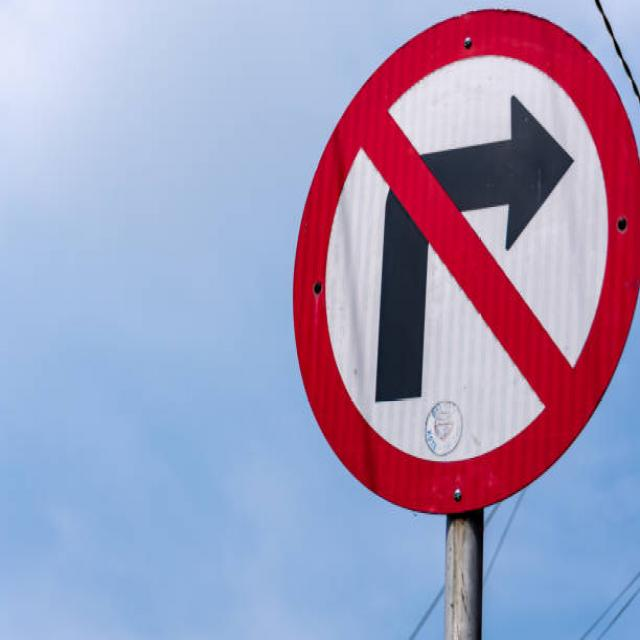do_not_turn_right: (280, 0, 640, 518)
